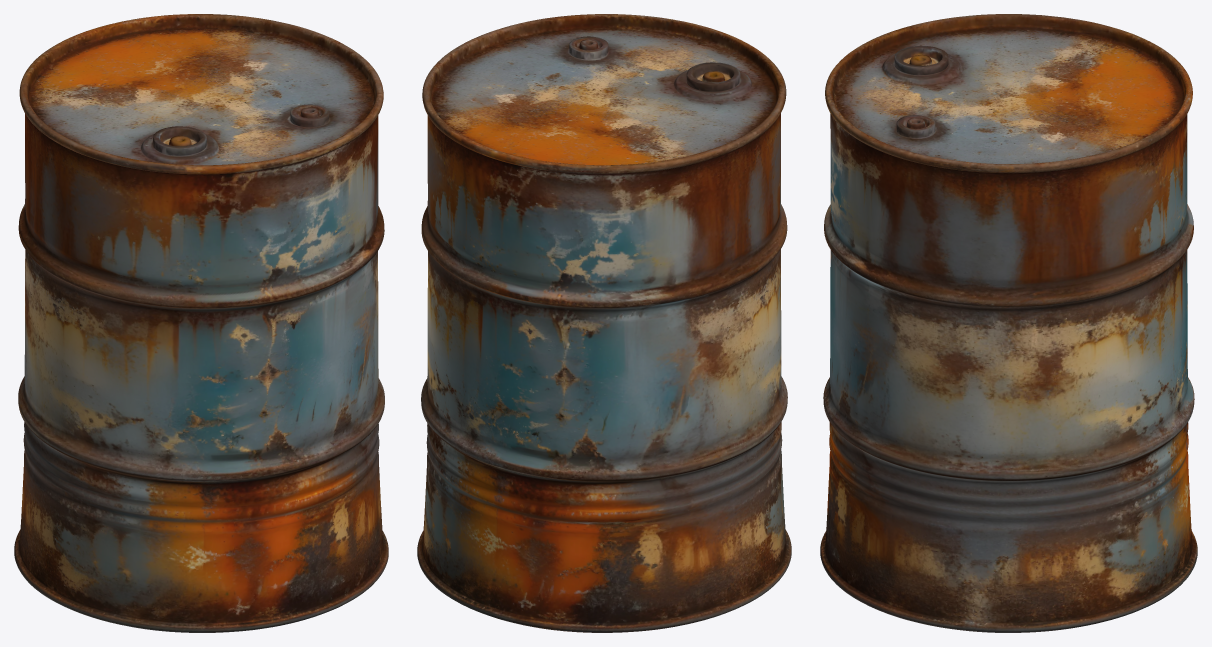
The model's file is olietank.fbx.
3 renders of one model, left to right at view 1: azimuth 30°, elevation 25°; view 2: azimuth 150°, elevation 25°; view 3: azimuth 270°, elevation 25°, orthographic.
Visible parts, largest first — view 1: node_0; view 2: node_0; view 3: node_0.
Part boxes in pixels (x1=…): node_0: x1=14, y1=14, x2=388, y2=632; node_0: x1=417, y1=14, x2=791, y2=632; node_0: x1=820, y1=14, x2=1197, y2=632.
Bounding box in the file's own units: 71.09 × 97.88 × 71.59.
